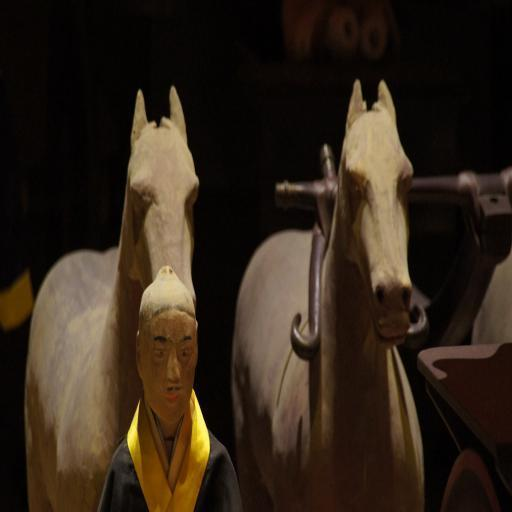horse: (228, 78, 427, 512), (24, 86, 201, 512)
